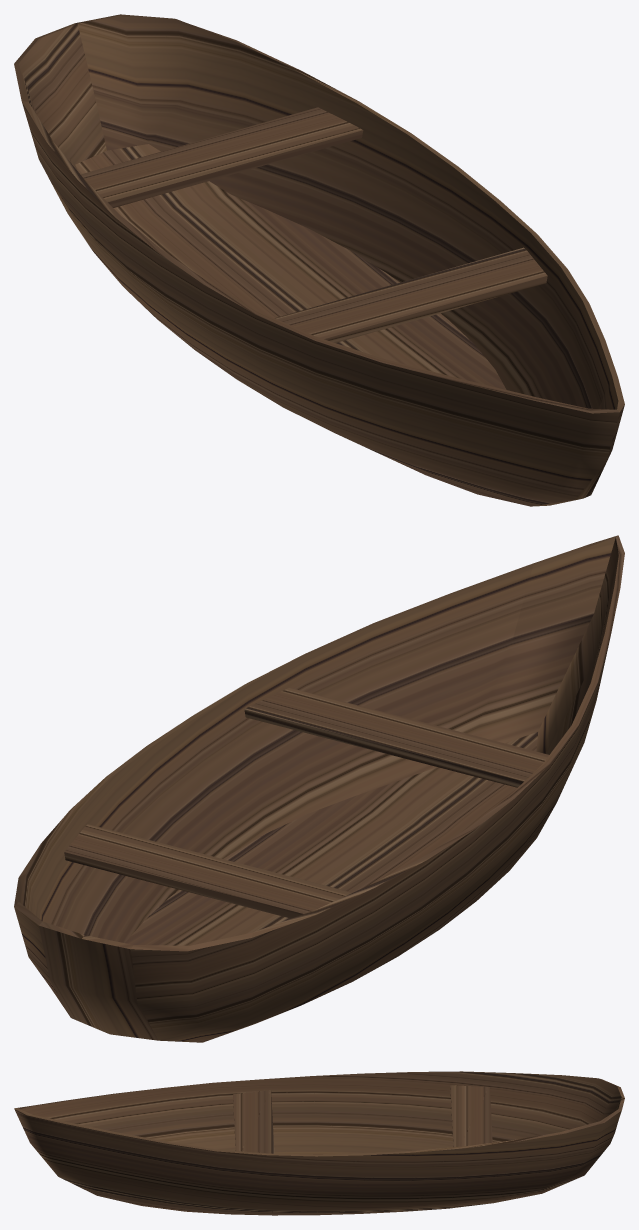
Rendered from Boat.fbx.
The picture shows the model from 3 angles, top to bottom: view 1: azimuth 30°, elevation 25°; view 2: azimuth 150°, elevation 25°; view 3: azimuth 270°, elevation 25°; orthographic projection. The views are drawn at different scales.
Visible parts, largest first — view 1: Boat; view 2: Boat; view 3: Boat.
Part boxes in pixels (left/top/right/bottom): Boat: left=14, top=14, right=624, bottom=506; Boat: left=14, top=535, right=624, bottom=1042; Boat: left=14, top=1071, right=624, bottom=1215.
Bounding box in the file's own units: 1.31 × 0.733 × 3.91.
